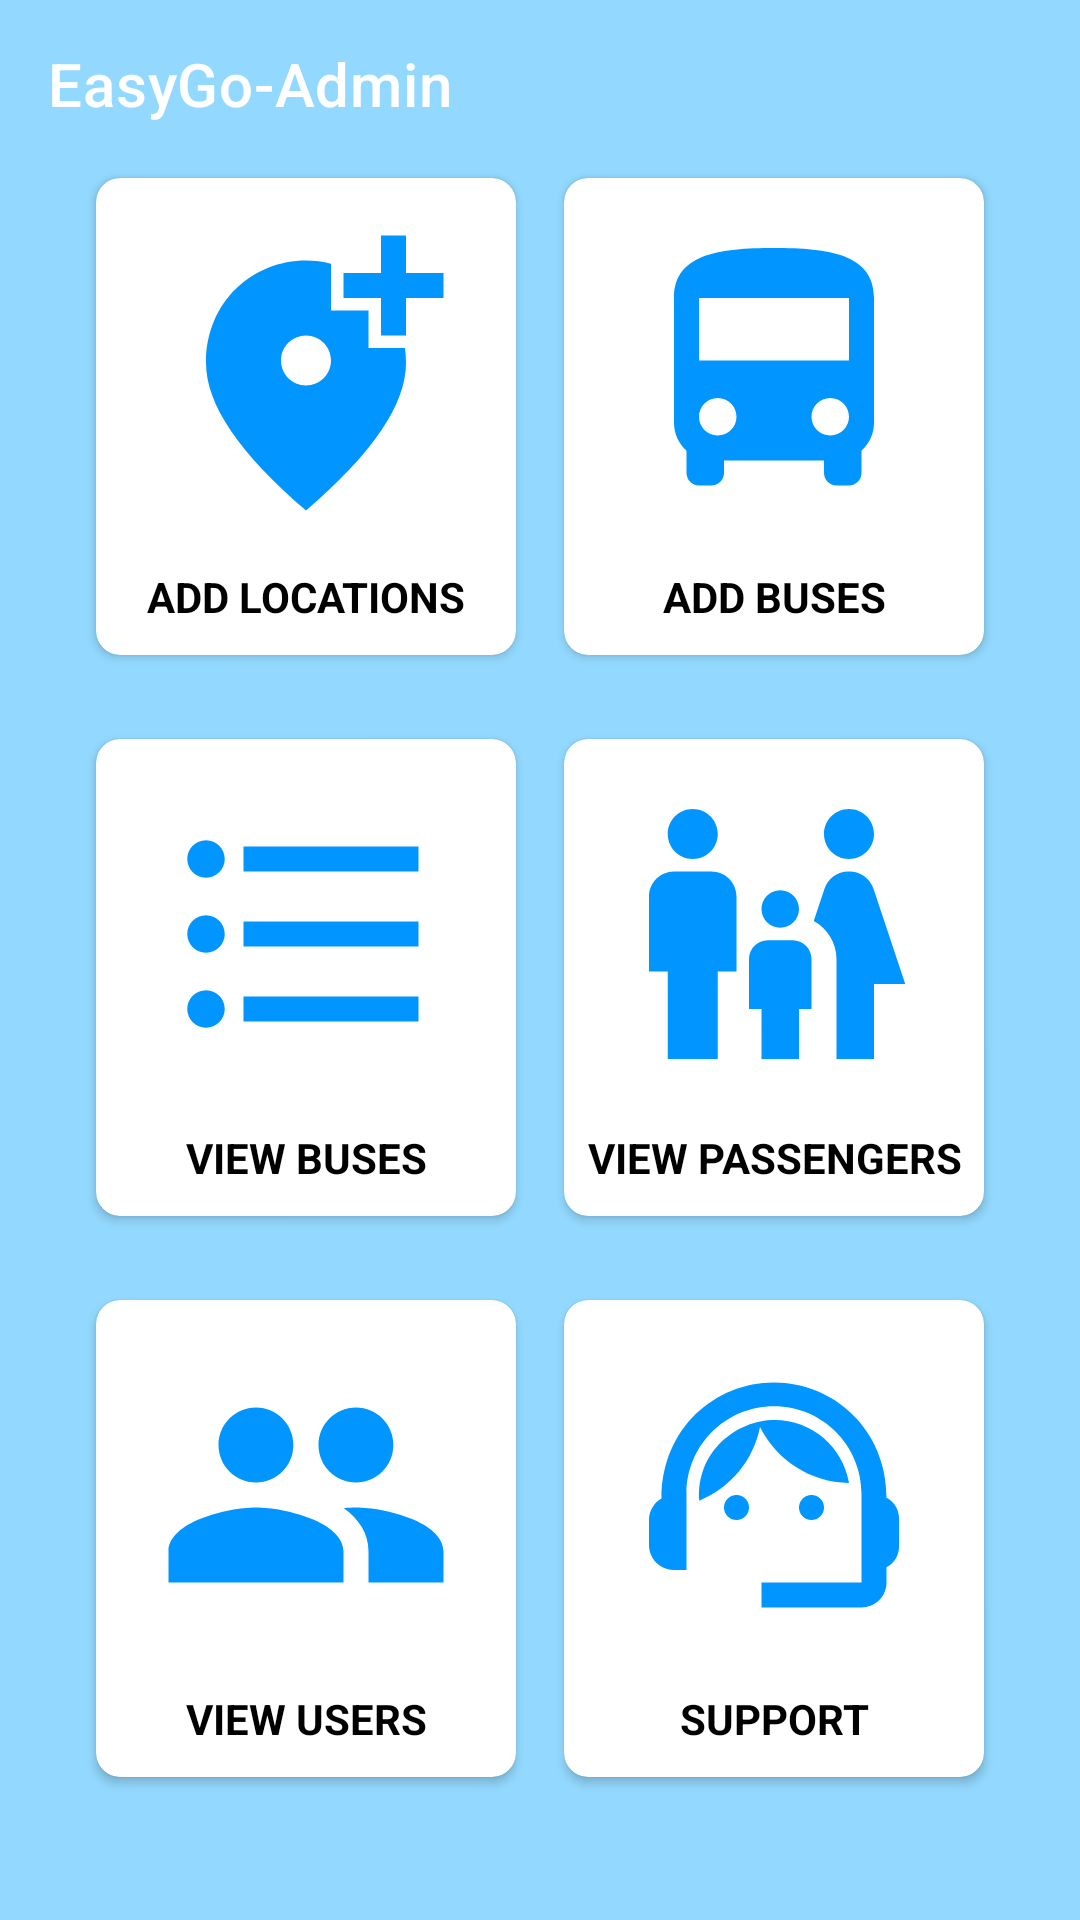

Icon click points for this 1080 × 1920 phone screenshot, format [x,y]:
bus front: [774,367]
list: [303,934]
